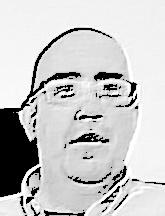nose_M_C: (74, 90, 104, 129)
